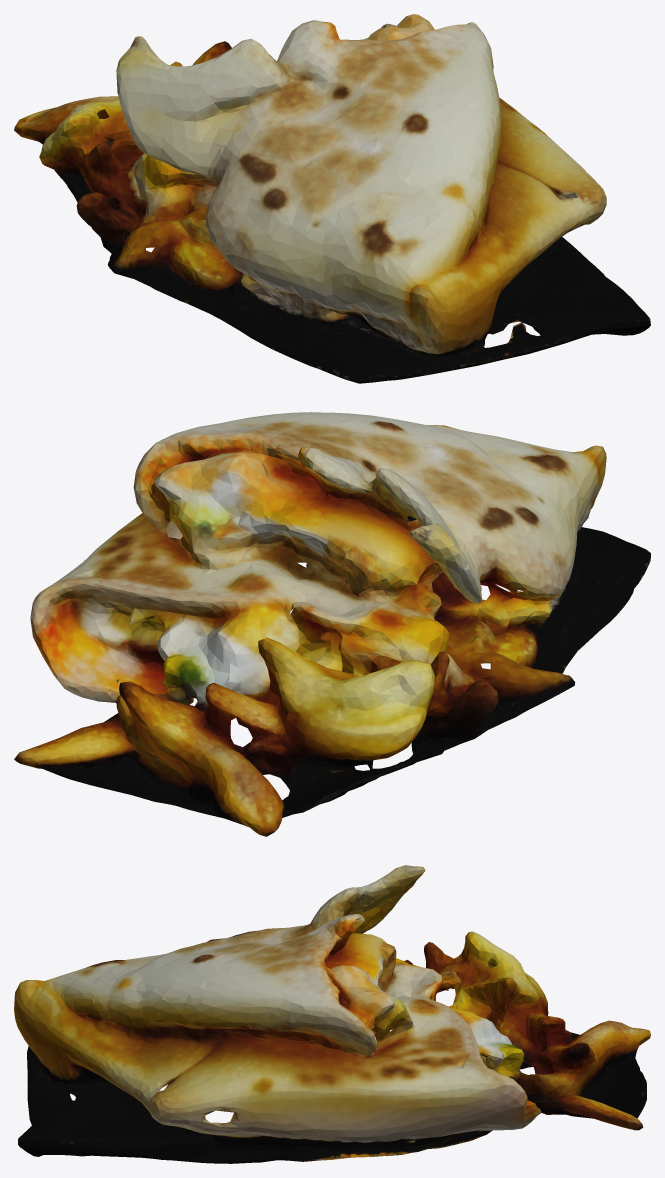
Rendered from item-3d-660de469-53d1-418f-b299-065c7072ce0f.glb.
3 views of the same model, one above another, from view 1: azimuth 30°, elevation 25°; view 2: azimuth 150°, elevation 25°; view 3: azimuth 270°, elevation 25° (orthographic). The views are drawn at different scales.
Parts seen in each view (by area): view 1: world; view 2: world; view 3: world.
Boxes of the visible parts, <box> form: world: <box>14,14,650,383</box>; world: <box>14,412,650,836</box>; world: <box>14,865,650,1163</box>.
Bounding box in the file's own units: 0.6409 × 0.3284 × 1.
1 material, 1 textured.
